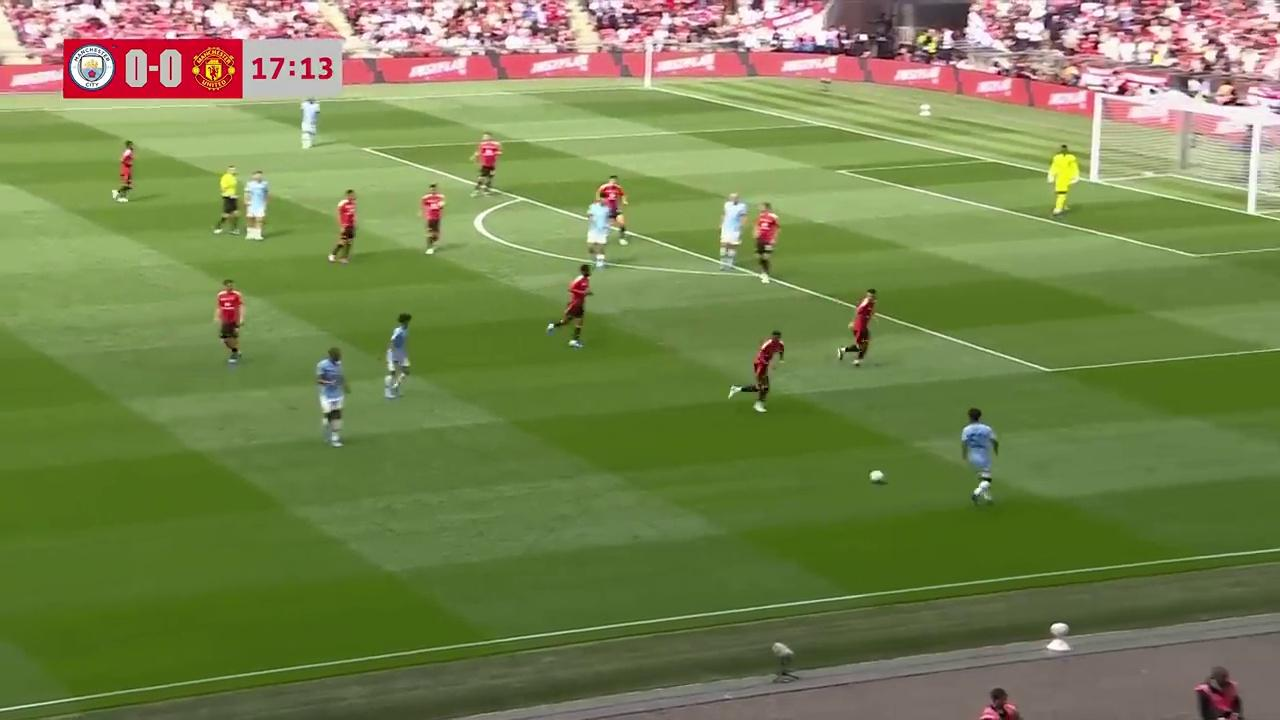ball: (868, 467, 886, 484)
player: (729, 329, 785, 413), (546, 264, 594, 349), (959, 407, 999, 505), (315, 347, 349, 447), (840, 288, 876, 367), (214, 279, 244, 365), (384, 312, 412, 399), (1047, 143, 1079, 218), (718, 191, 747, 269), (752, 202, 779, 283), (585, 191, 612, 270), (329, 188, 356, 264), (470, 134, 501, 196), (418, 183, 445, 254), (602, 175, 629, 244), (243, 169, 269, 240), (113, 141, 136, 202), (300, 95, 320, 149)
referee: (213, 164, 242, 235)
